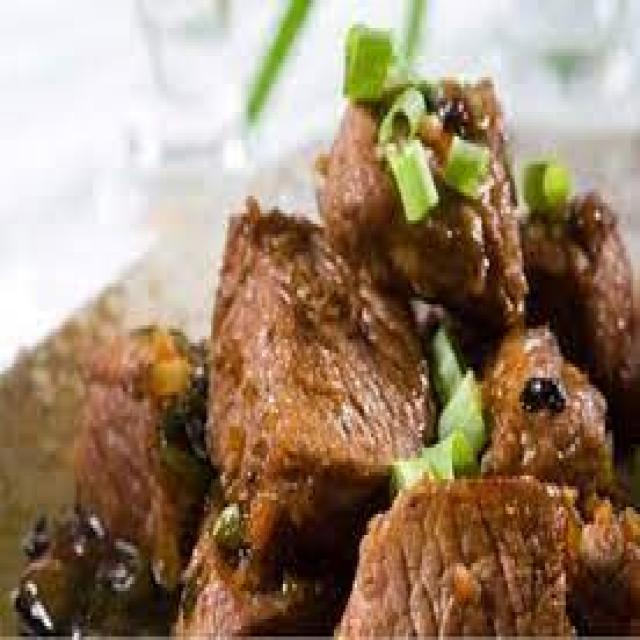Carne: (89, 81, 640, 639)
